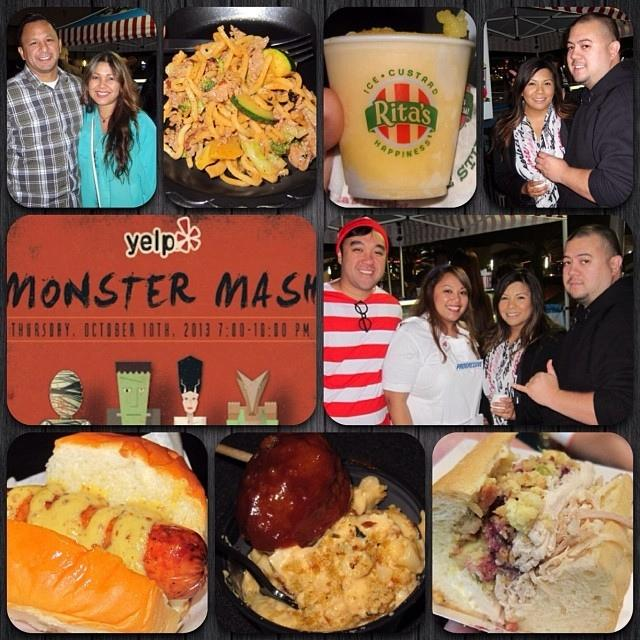vegetable marrow: (230, 94, 280, 125), (263, 48, 290, 85)
